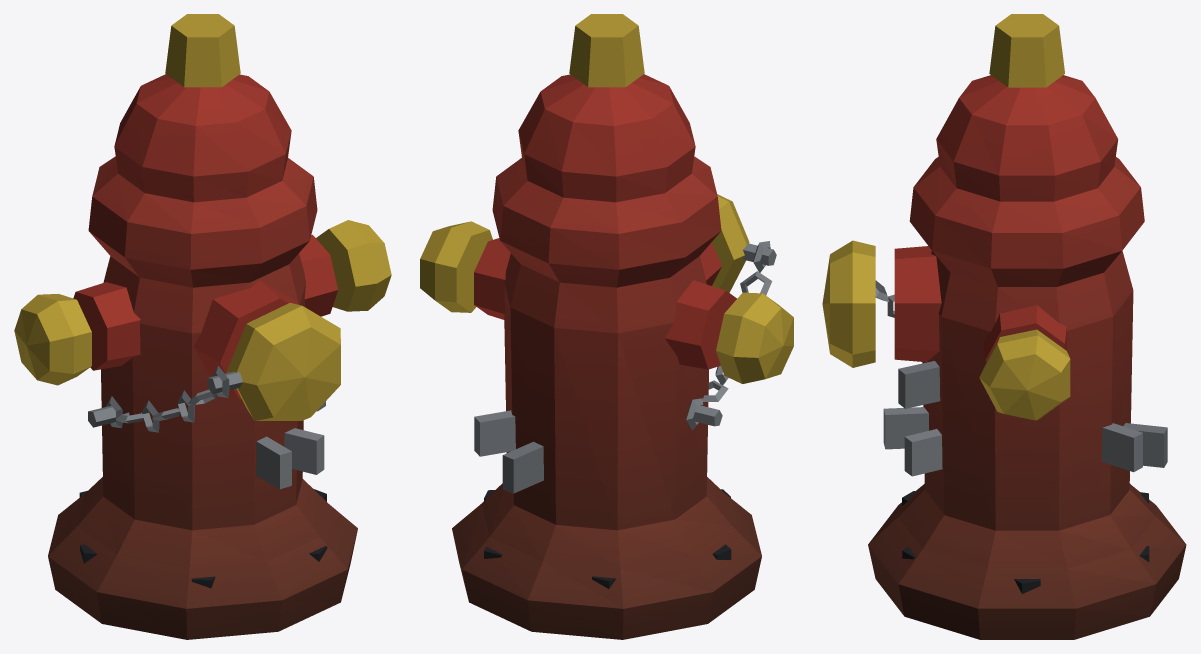
The model's file is fire_hydrant.glb.
The picture shows the model from 3 angles, left to right: view 1: azimuth 30°, elevation 25°; view 2: azimuth 150°, elevation 25°; view 3: azimuth 270°, elevation 25°; orthographic projection.
Visible parts, largest first — view 1: fire_hydrant; view 2: fire_hydrant; view 3: fire_hydrant.
Boxes of the visible parts, box(x1,y1,x2,y2) form: fire_hydrant: box(14, 14, 391, 639); fire_hydrant: box(420, 14, 793, 639); fire_hydrant: box(822, 14, 1186, 639).
Bounding box in the file's own units: 0.54 × 0.805 × 0.48.
